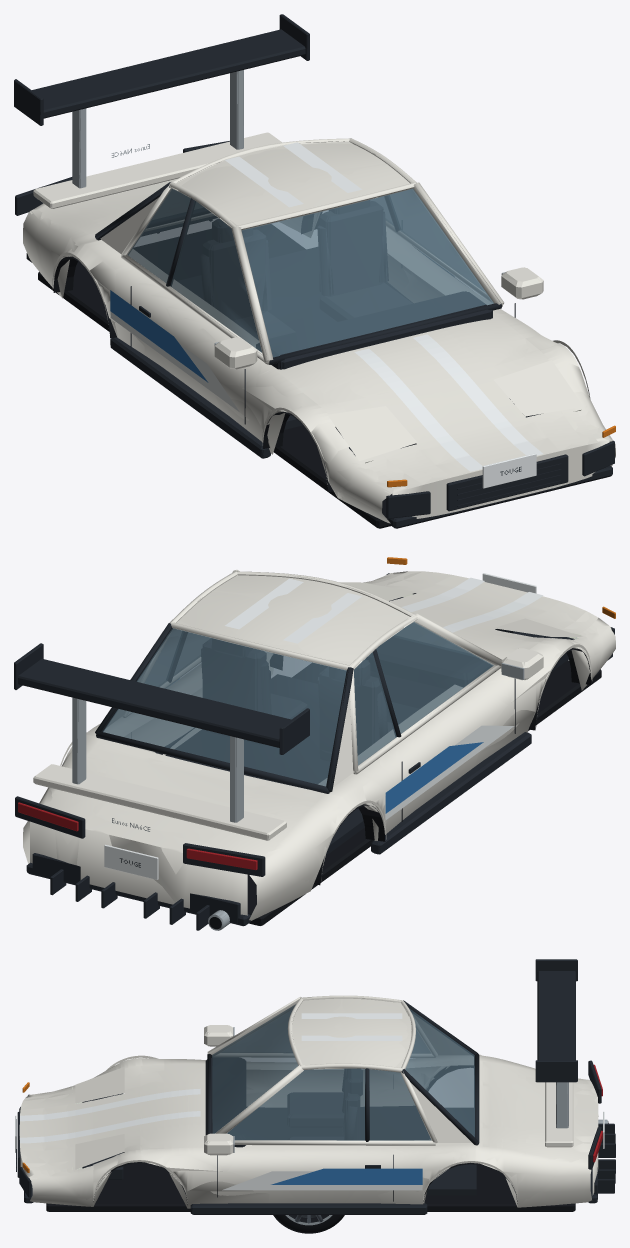
3 renders of one model, top to bottom at view 1: azimuth 30°, elevation 25°; view 2: azimuth 150°, elevation 25°; view 3: azimuth 270°, elevation 25°, orthographic. The views are drawn at different scales.
Visible parts, largest first — view 1: LOD0_cabin, LOD0_glass, LOD1_glass, LOD0_body, LOD1_body, LOD0_hood, LOD1_hood, LOD1_cabin, LOD1_spoiler_gt, LOD0_spoiler_gt, LOD1_spoiler_stock, LOD0_vinyl_twin (+6 smaller); view 2: LOD0_body, LOD0_cabin, LOD0_glass, LOD1_glass, LOD1_body, LOD1_spoiler_gt, LOD0_spoiler_gt, LOD1_cabin, LOD1_hood, LOD1_spoiler_stock, LOD0_vinyl_apex, LOD0_hood (+5 smaller); view 3: LOD0_body, LOD0_cabin, LOD1_body, LOD0_glass, LOD1_glass, LOD0_hood, LOD1_hood, LOD1_cabin, LOD0_vinyl_apex, LOD1_spoiler_gt, LOD0_spoiler_gt, LOD0_vinyl_twin (+7 smaller).
Boxes of the visible parts, x1,y1,x2,y2 form: LOD0_cabin: (95, 138, 504, 429); LOD0_glass: (128, 188, 493, 356); LOD1_glass: (127, 189, 493, 357); LOD0_body: (15, 141, 615, 528); LOD1_body: (15, 150, 615, 528); LOD0_hood: (275, 316, 598, 488); LOD1_hood: (299, 325, 586, 484); LOD1_cabin: (96, 138, 501, 429); LOD1_spoiler_gt: (14, 16, 309, 188); LOD0_spoiler_gt: (14, 14, 309, 188); LOD1_spoiler_stock: (33, 132, 281, 208); LOD0_vinyl_twin: (225, 142, 527, 470); LOD0_body: (15, 557, 615, 930); LOD0_cabin: (95, 569, 501, 855); LOD0_glass: (103, 622, 493, 786); LOD1_glass: (103, 622, 493, 785); LOD1_body: (15, 558, 615, 930); LOD1_spoiler_gt: (14, 643, 300, 822); LOD0_spoiler_gt: (14, 644, 309, 822); LOD1_cabin: (134, 570, 500, 853); LOD1_hood: (383, 571, 586, 649); LOD1_spoiler_stock: (33, 764, 286, 840); LOD0_vinyl_apex: (174, 663, 514, 819); LOD0_hood: (372, 571, 598, 659); LOD0_body: (15, 1025, 615, 1214); LOD0_cabin: (205, 995, 479, 1195); LOD1_body: (18, 1025, 608, 1214); LOD0_glass: (212, 1004, 474, 1140); LOD1_glass: (212, 1005, 474, 1140); LOD0_hood: (19, 1063, 205, 1170); LOD1_hood: (20, 1064, 189, 1163); LOD1_cabin: (207, 997, 478, 1195); LOD0_vinyl_apex: (222, 1168, 422, 1190); LOD1_spoiler_gt: (535, 971, 576, 1127); LOD0_spoiler_gt: (535, 959, 577, 1128); LOD0_vinyl_twin: (21, 1013, 402, 1143).
Size of the model in its own units: 1.93 by 1.66 by 4.13.
